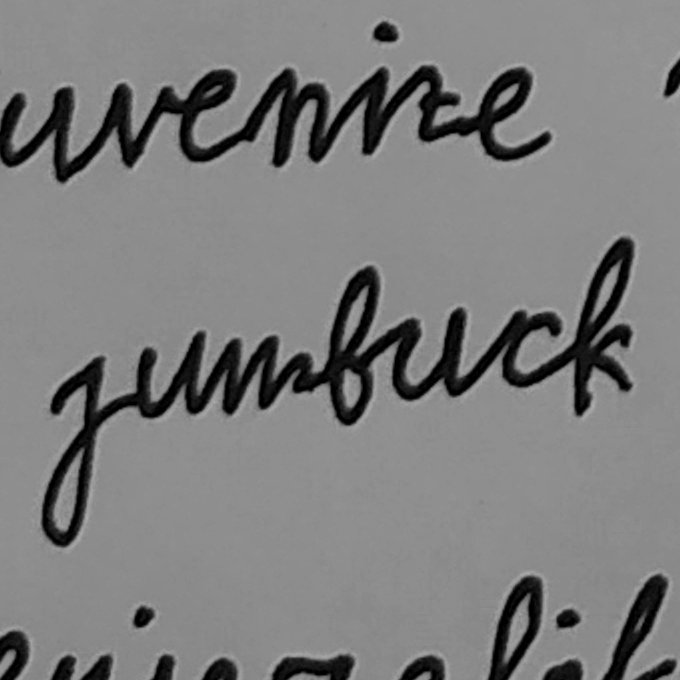b: (320, 261, 388, 430)
c: (496, 303, 566, 391)
j: (36, 349, 115, 551)
k: (567, 231, 639, 423)
m: (212, 328, 318, 422)
u: (389, 301, 475, 408), (128, 325, 211, 424)
